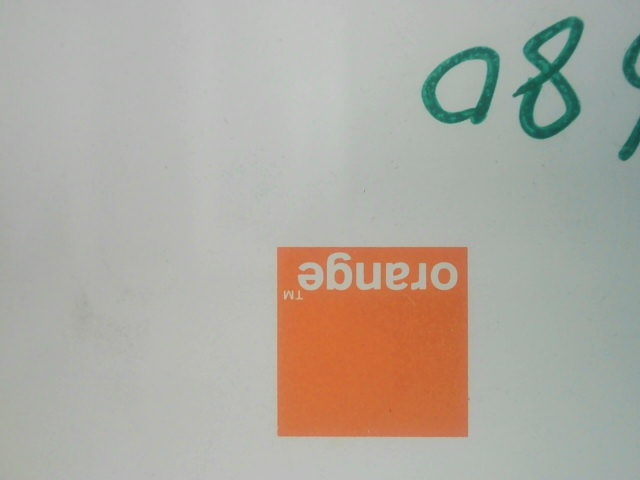AR_Orange: (261, 240, 492, 450)
